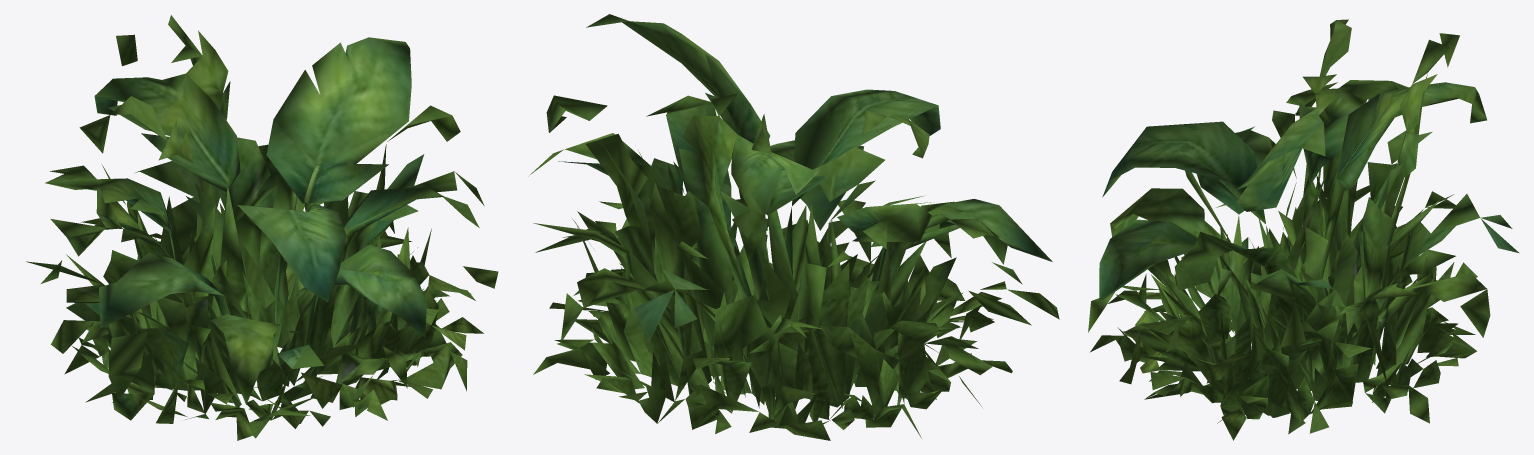
The model's file is bush_broadleaf.glb.
The picture shows the model from 3 angles, left to right: view 1: azimuth 30°, elevation 25°; view 2: azimuth 150°, elevation 25°; view 3: azimuth 270°, elevation 25°; orthographic projection. The views are drawn at different scales.
Parts seen in each view (by area): view 1: plant; view 2: plant; view 3: plant.
Boxes of the visible parts, x1,y1,x2,y2 form: plant: [26, 15, 498, 440]; plant: [528, 14, 1059, 440]; plant: [1088, 19, 1519, 440].
Size of the model in its own units: 1 by 0.6569 by 0.85.
1 material, 1 textured.
